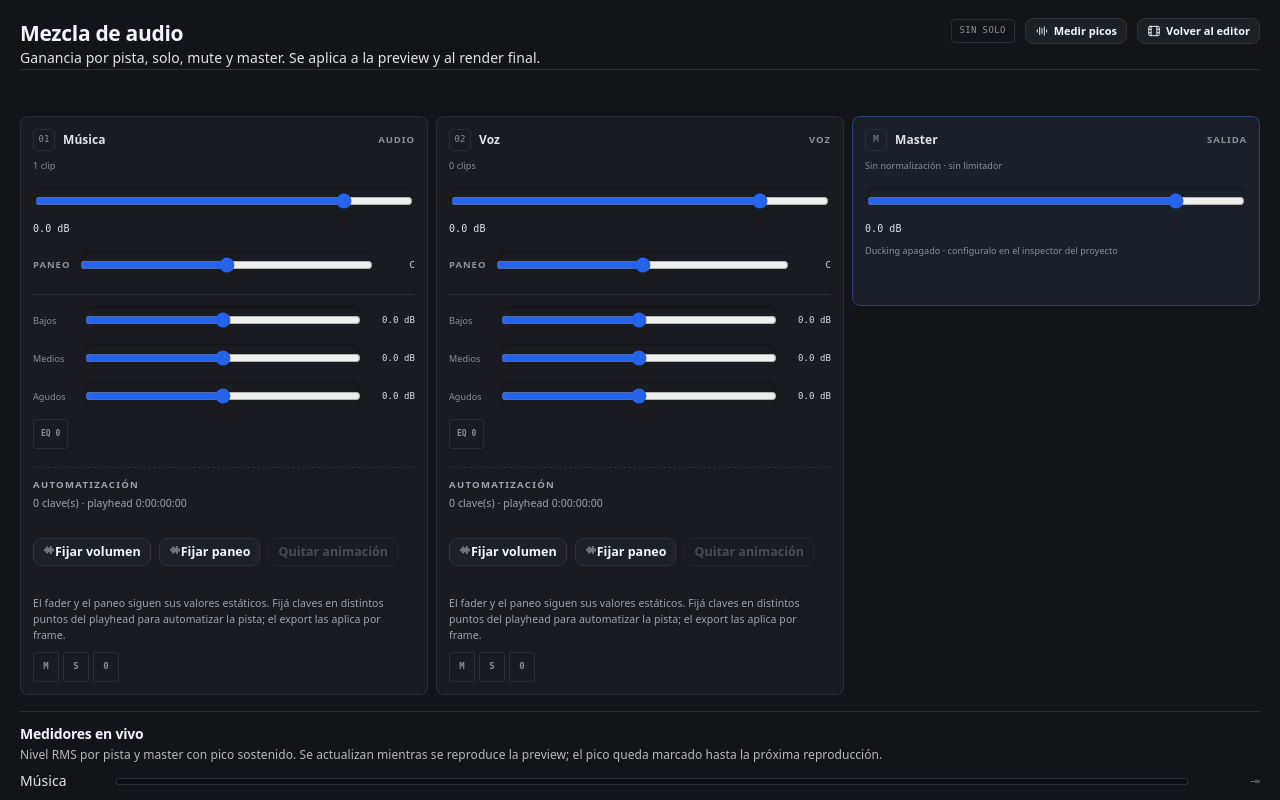
vista de mezcla › cambia paneo y EQ de pista y los deja en el proyecto
The image size is (1280, 800).
Step 1. Set the slider named "Paneo de Música" to "-0.5" → (158, 265), box [80,250,373,280]
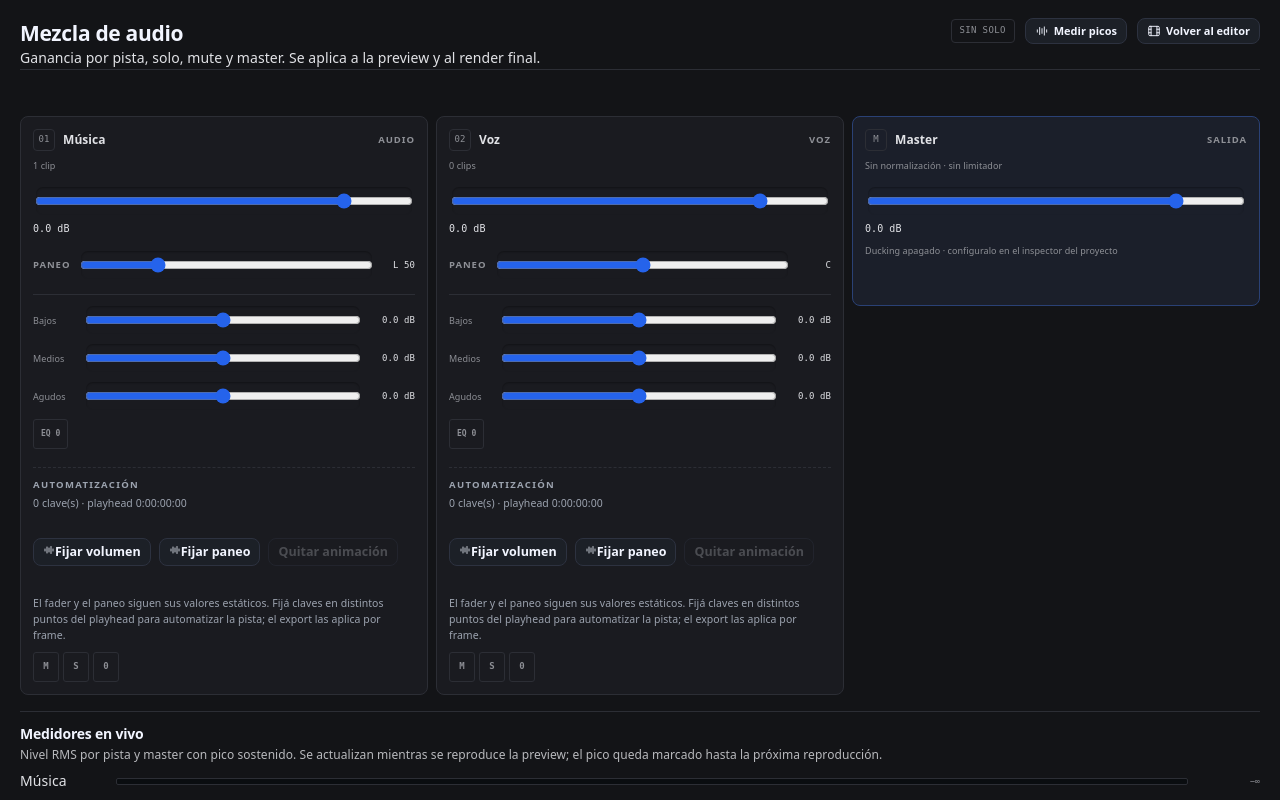
expect the text "L 50" is shown: met, box [393,260,415,270]
Step 2. Set the slider named "Bajos de Música" to "-4" → (180, 320), box [85,305,361,335]
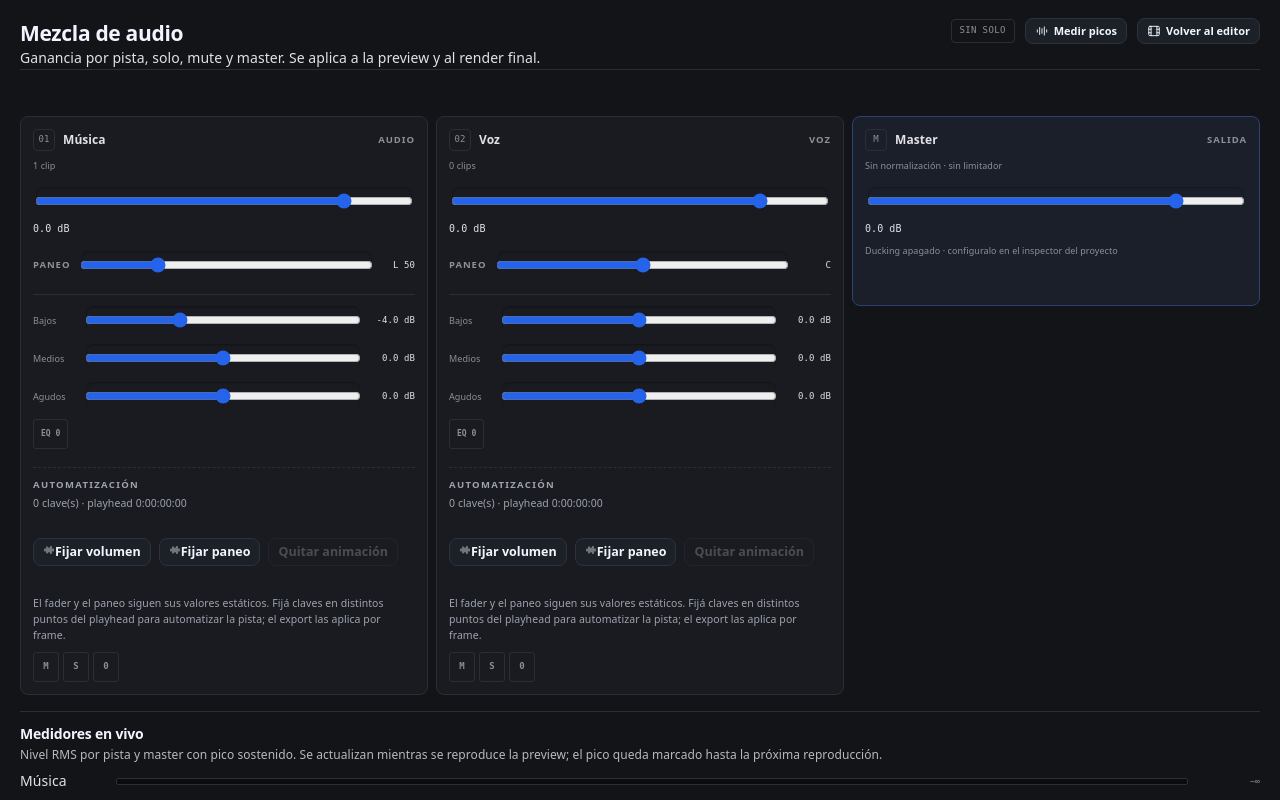
Step 3. Click the button with aria-label "EQ plano de Música" → (51, 434), box [33,419,68,449]
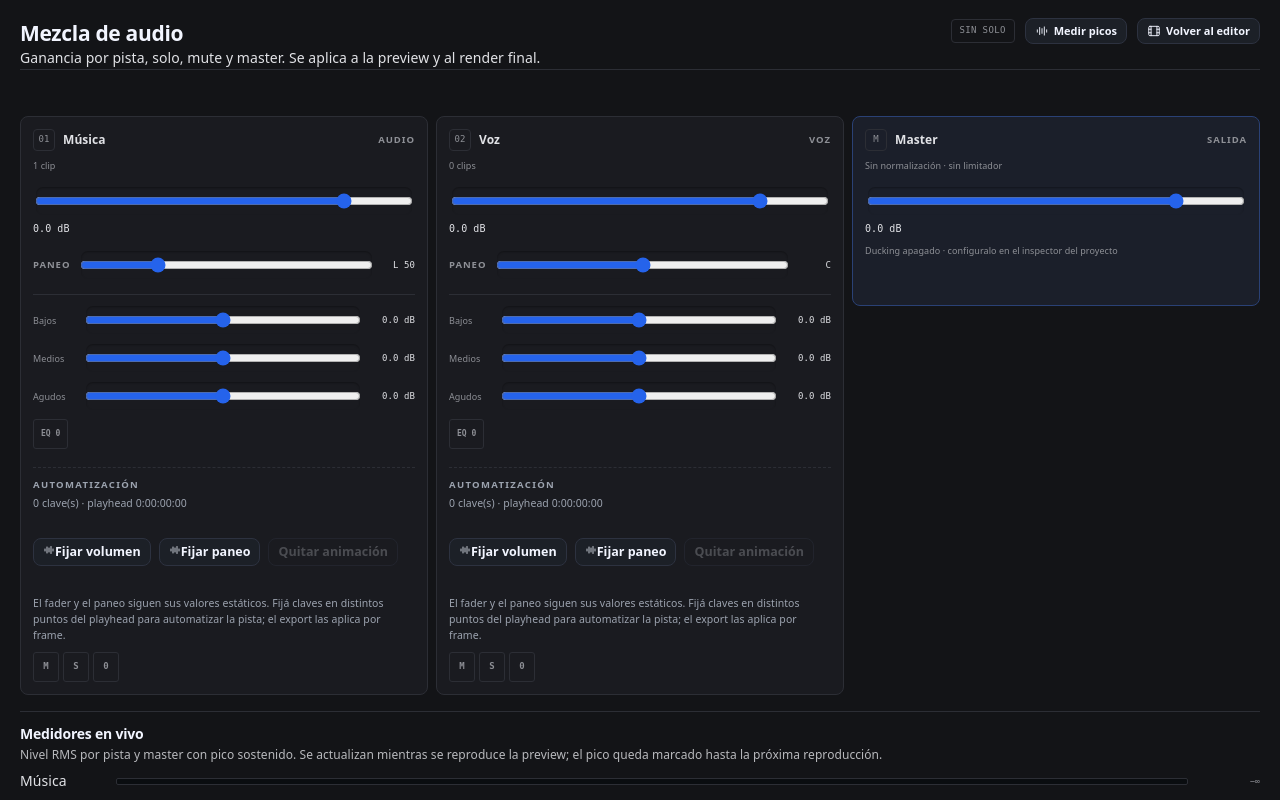
expect the slider named "Bajos de Música" holds "0": met, box [85,305,361,335]
